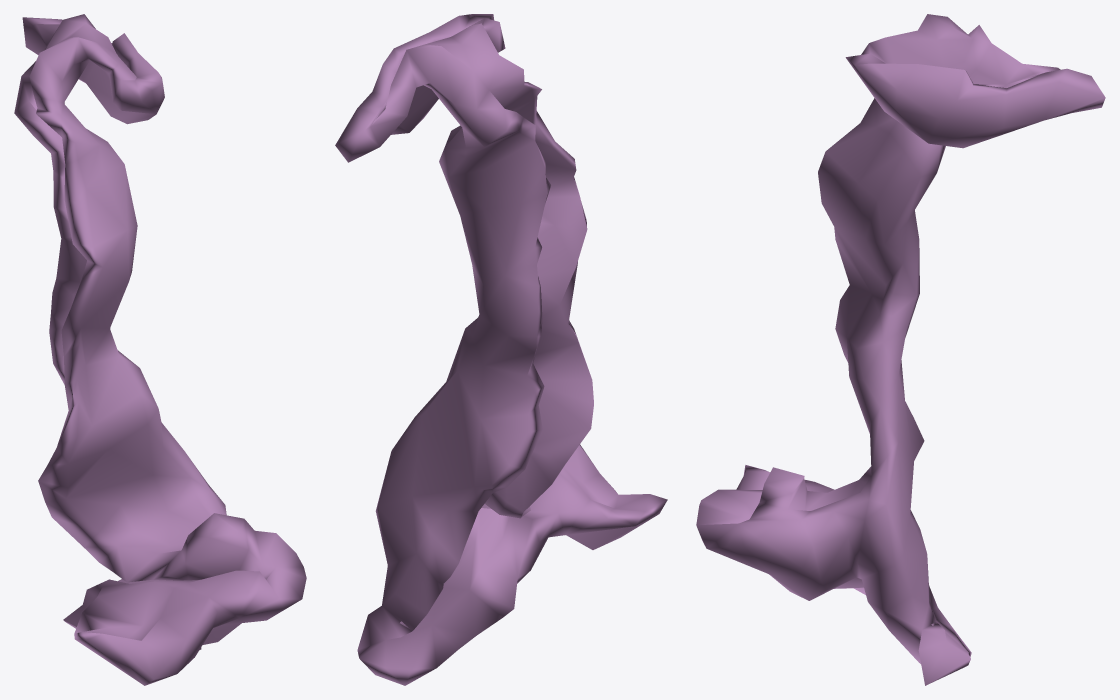
The picture shows the model from 3 angles, left to right: view 1: azimuth 30°, elevation 25°; view 2: azimuth 150°, elevation 25°; view 3: azimuth 270°, elevation 25°; orthographic projection. The views are drawn at different scales.
Visible parts, largest first — view 1: 左侧距状沟; view 2: 左侧距状沟; view 3: 左侧距状沟.
Boxes of the visible parts, <box> form: 左侧距状沟: <box>14,14,306,685</box>; 左侧距状沟: <box>335,14,667,685</box>; 左侧距状沟: <box>696,14,1105,685</box>.
Size of the model in its own units: 0.0288 by 0.0818 by 0.0488.
